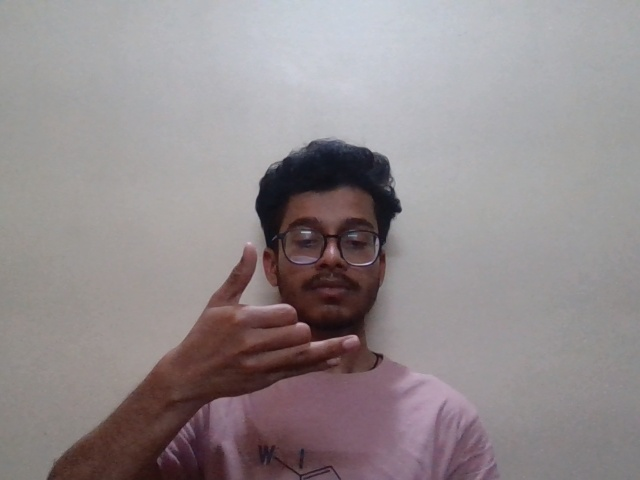project: (144, 237, 378, 410)
